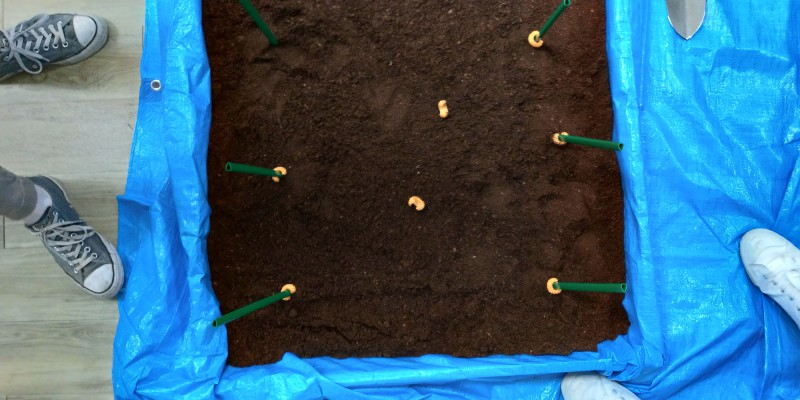eggs: (544, 271, 564, 298), (527, 27, 548, 51), (276, 280, 297, 304), (406, 192, 426, 215), (549, 128, 570, 149), (268, 163, 288, 182), (436, 95, 451, 120)
